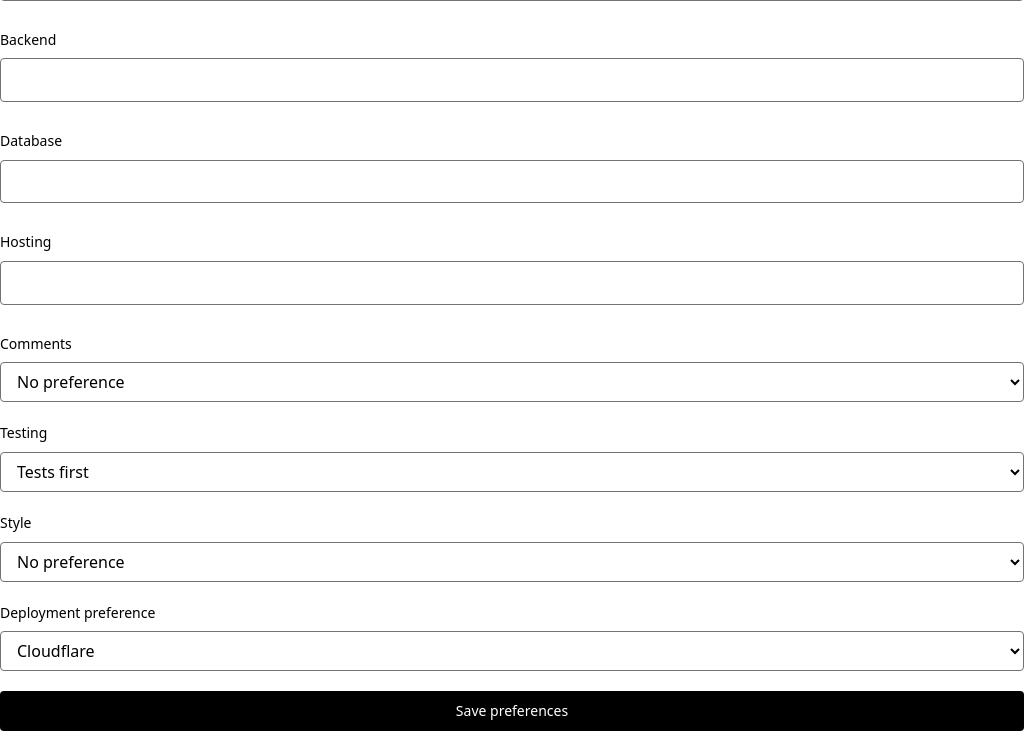
PreferencesForm › shows a retryable error when saving fails
(page scrolled)
Click the button "Save preferences" at (512, 711), box [0, 691, 1023, 730]
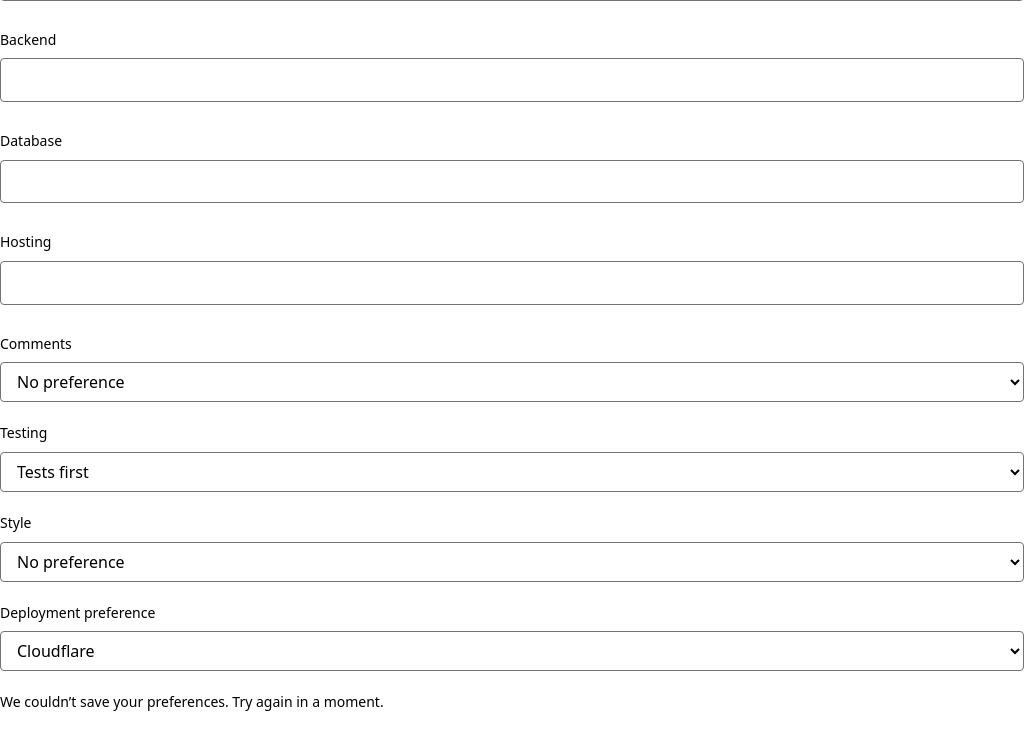
Expected: the message reads "We couldn’t save your preferences. Try again in a moment.", [0, 692, 384, 711]
